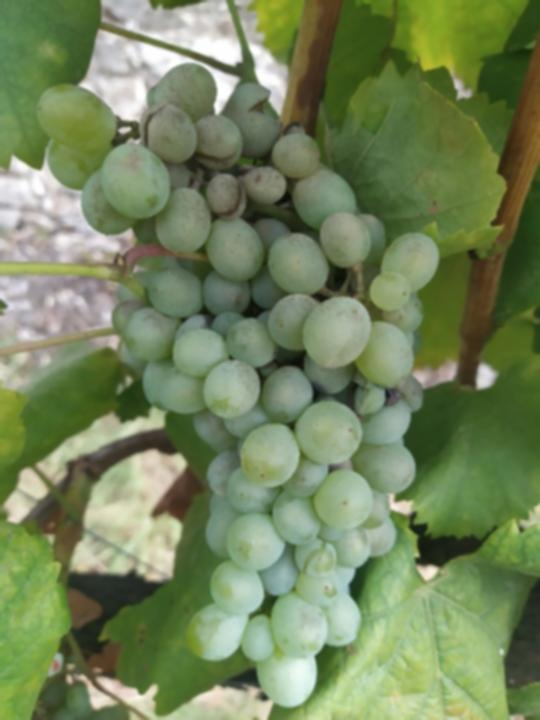grape: (33, 60, 442, 710)
